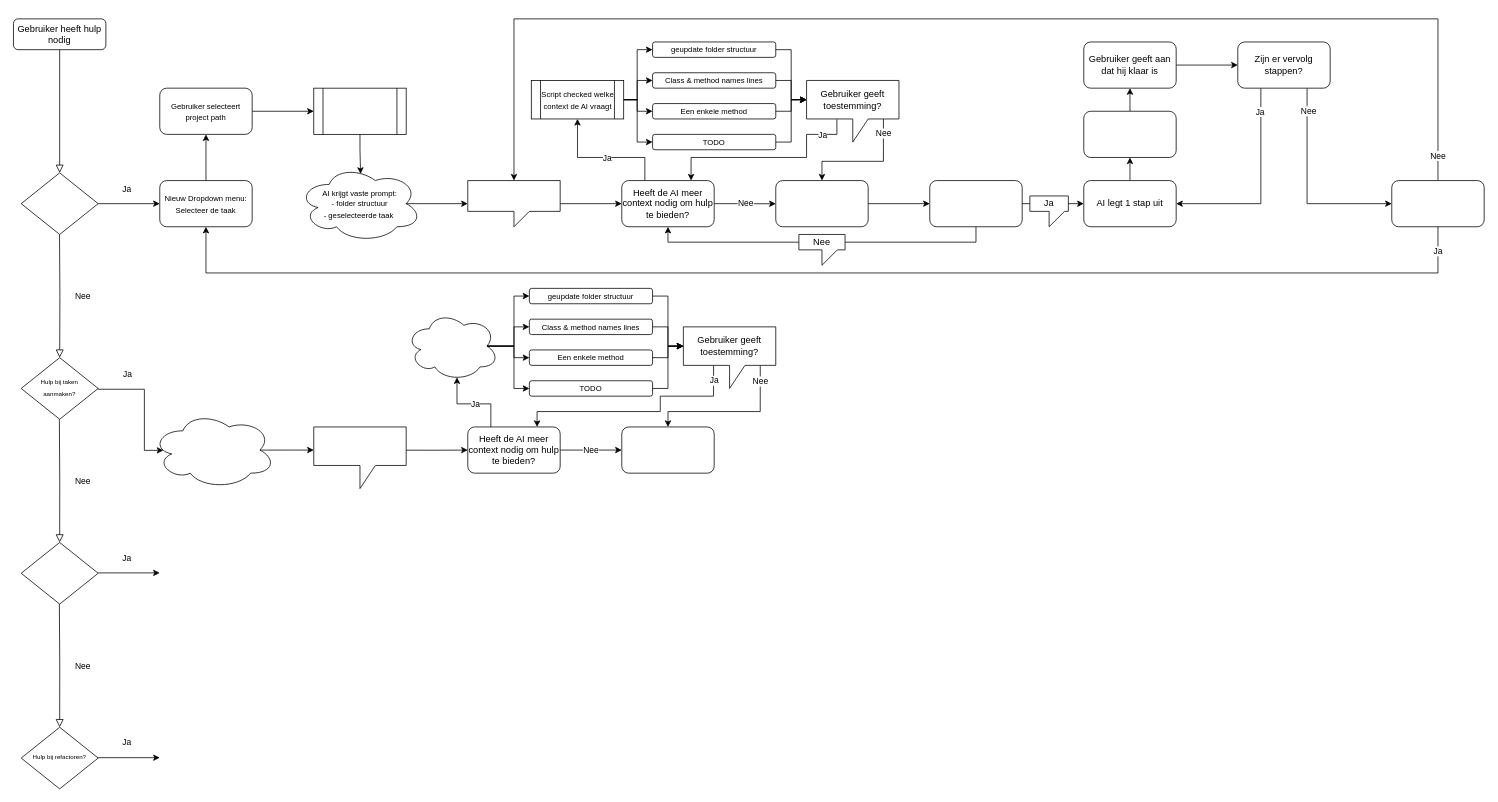
This 1498x802 diagram has some shape labels left out. The shapes that lost their labels are listed below. From the top down, each one's box as (x1, y1, x2, y2) in pixels, then its label:
(313, 87, 406, 134): Script maakt folderstructuur in text
(1083, 110, 1176, 157): Gebruiker voert de opgedragen stap uit
(20, 172, 98, 234): Hulp bij taken uitvoeren?
(467, 180, 560, 227): Gebruiker stelt vraag
(775, 180, 868, 227): AI geeft samenvatting van stappenplan voor gebruiker
(929, 180, 1022, 227): Is het stappenplan van de AI correct voor de taak
(1391, 180, 1484, 227): Taak uitgevoerd op basis van de aangeboden hulp?
(405, 311, 499, 381): AI kan elk moment wanneer nodig extra input vragen
(151, 411, 275, 489): AI krijgt vaste prompt: - folder structuur
(313, 426, 406, 489): Gebruiker verteld de opdracht die hij moet uitvoeren
(621, 426, 714, 473): AI Maakt taken op basis van input.
(20, 542, 98, 604): Hulp bij Debuggen?
